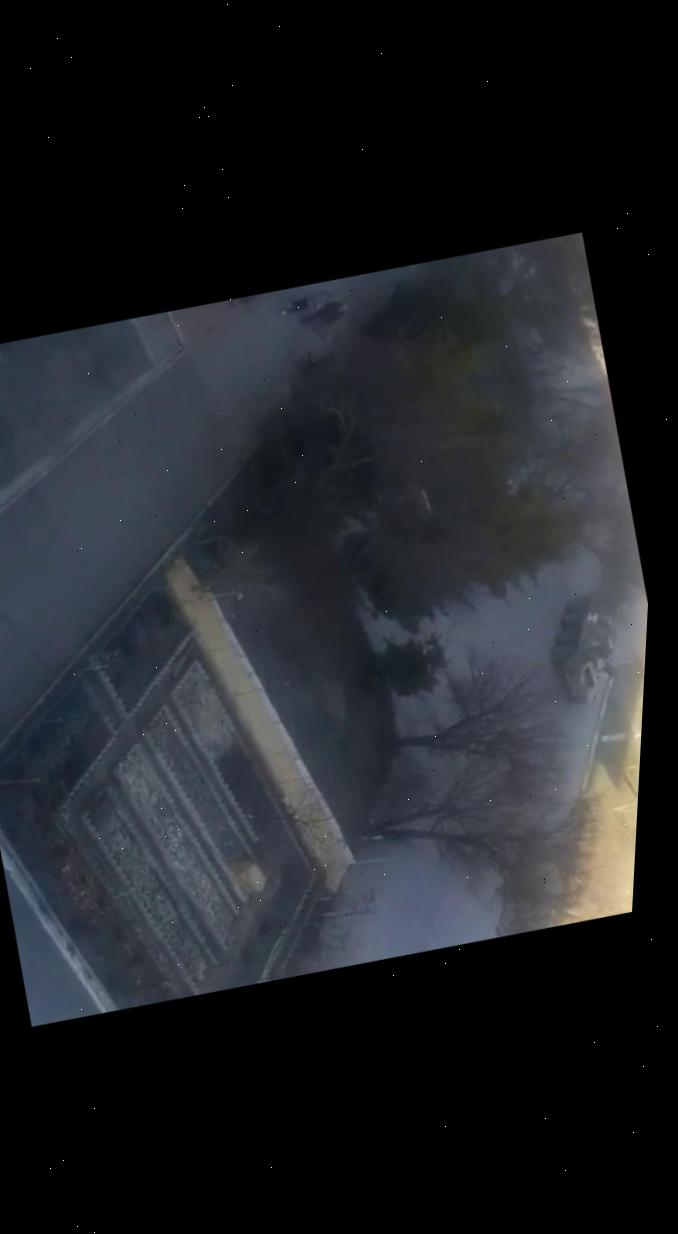person: (270, 281, 335, 324), (298, 295, 359, 339)
tank: (533, 584, 637, 714)
